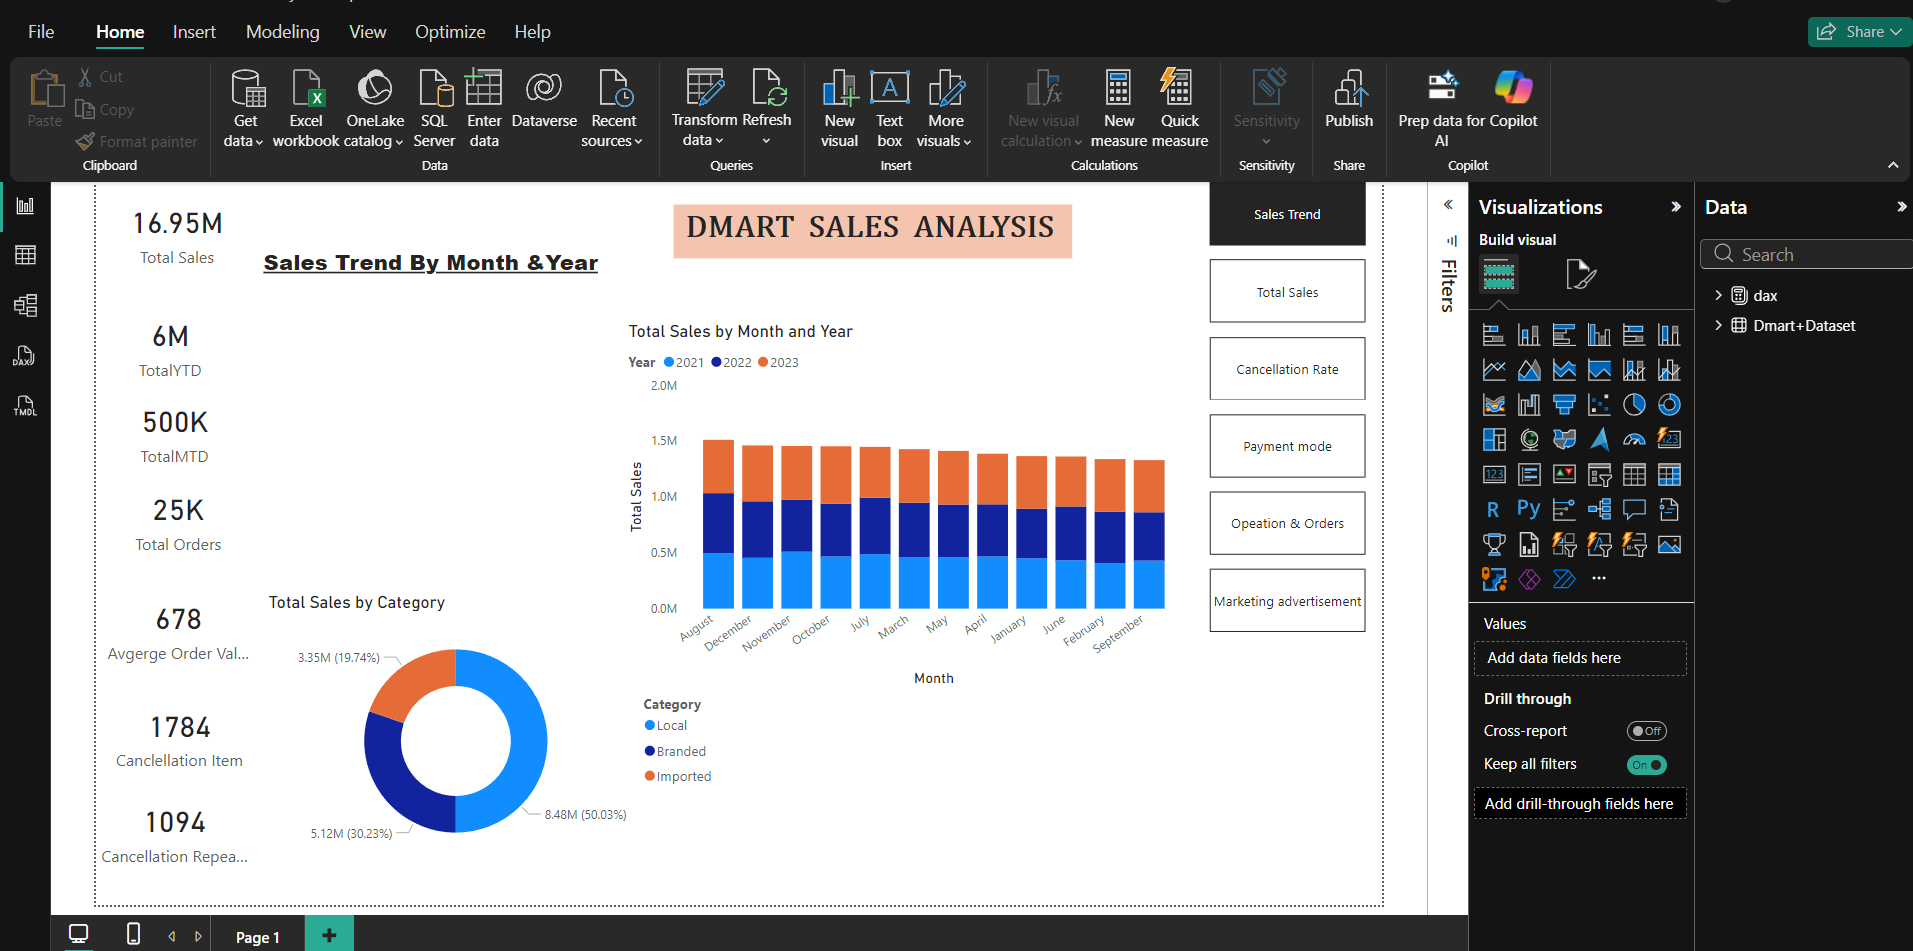

What the dashboard file says about the page in this screenshot:
{"tool":"powerbi","page":{"name":"Page 1","canvas":[1280,720],"ordinal":0},"visuals":[{"type":"card","fields":{"Values":["dax.total sales"]},"box":[0,0,161.7,99.5],"z":0},{"type":"donutChart","fields":{"Category":["Dmart+Dataset.Category"],"Y":["dax.total sales"]},"box":[166.7,408,460.3,276.2],"z":0,"group":"g1"},{"type":"columnChart","fields":{"Category":["Dmart+Dataset.Month"],"Y":["dax.total sales"],"Series":["Dmart+Dataset.Year"]},"box":[524.9,138.1,559.8,368.2],"z":1000,"group":"g1"},{"type":"card","fields":{"Values":["dax.total orders"]},"box":[3.7,276.2,156.7,118.2],"z":1000},{"type":"textbox","box":[162.1,60.1,391.8,68.4],"z":2000,"group":"g1"},{"type":"card","fields":{"Values":["dax.avgerge order value"]},"box":[5,394.3,154.3,99.5],"z":2000},{"type":"card","fields":{"Values":["dax.canclenation item"]},"box":[5,493.9,156.7,114.4],"z":3000},{"type":"card","fields":{"Values":["dax.canacle repeate purchase count"]},"box":[0,595.9,156.7,100.8],"z":4000},{"type":"card","fields":{"Values":["dax.totalmtd"]},"box":[0,199,156.7,98.3],"z":5000},{"type":"card","fields":{"Values":["dax.totalytd"]},"box":[0,113.2,148,98.3],"z":6000},{"type":"textbox","box":[574.9,22.5,396.5,53.7],"z":7000},{"type":"bookmarkNavigator","box":[1108.2,0,155.8,453.7],"z":8000},{"type":"group","id":"g1","title":"Group 1","box":[162.1,60.1,922.6,624.1],"z":9000}]}

Visuals, with their boxes on the page's 1280x720 design canvas (x1, y1, x2, y2). These are canvas units, not pixel positions in the 1913x951 screenshot, which may show the page scaled, cropped or inside an application window:
card - dax.total sales: 0,0,162,100
donutChart - Dmart+Dataset.Category x dax.total sales: 167,408,627,684
columnChart - Dmart+Dataset.Month x dax.total sales: 525,138,1085,506
card - dax.total orders: 4,276,160,394
textbox: 162,60,554,128
card - dax.avgerge order value: 5,394,159,494
card - dax.canclenation item: 5,494,162,608
card - dax.canacle repeate purchase count: 0,596,157,697
card - dax.totalmtd: 0,199,157,297
card - dax.totalytd: 0,113,148,212
textbox: 575,22,971,76
bookmarkNavigator: 1108,0,1264,454
"Group 1" group: 162,60,1085,684
